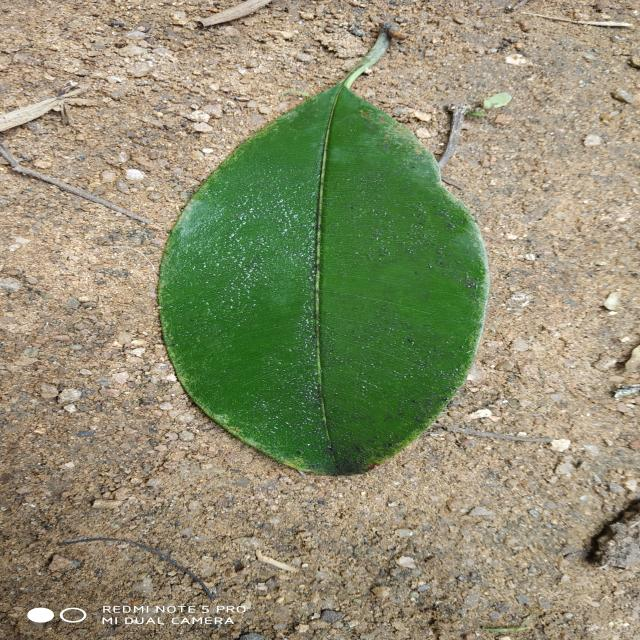fasiation: (160, 80, 489, 475)
